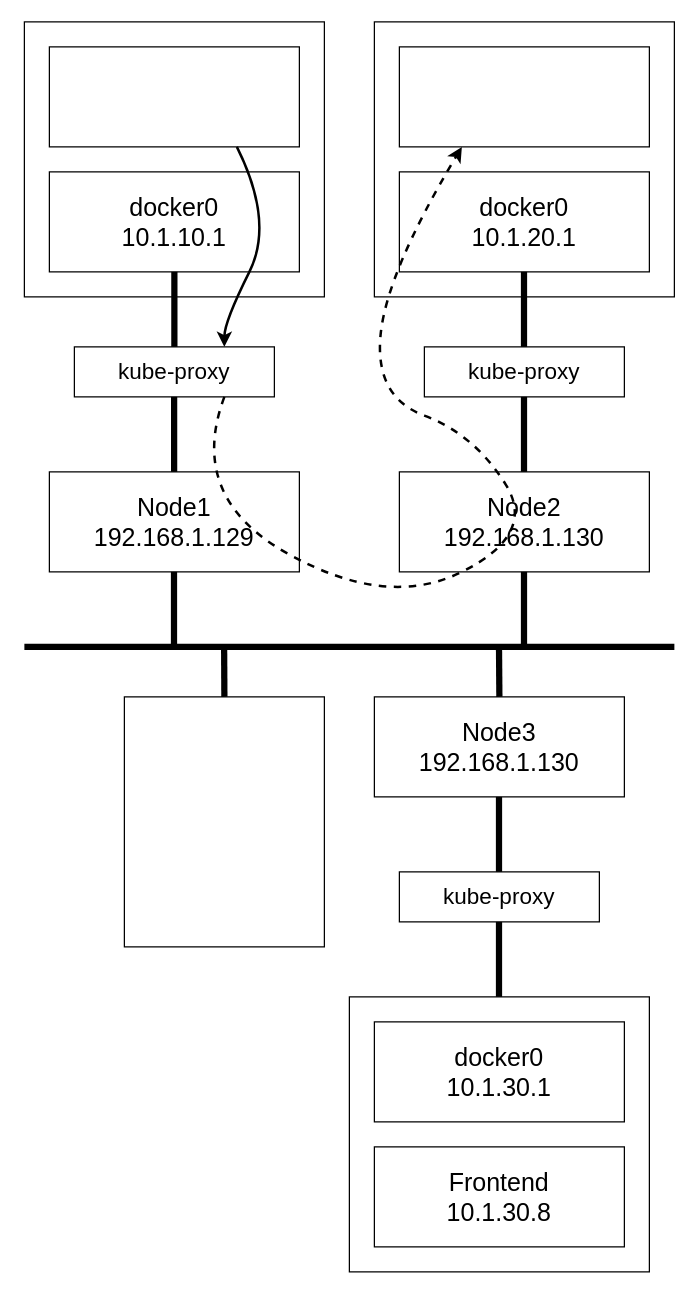
This 700x1294 diagram has some shape labels left out. Each missing label, with the centre of its shape:
"Frontend 10.1.10.5" goes at [173,96].
"Frontend 10.1.10.6" goes at [523,96].
"KubeMaster 192.168.1.129" goes at [223,821].
